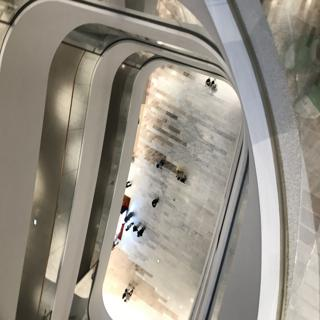person: (174, 172, 192, 190), (145, 198, 173, 207)
